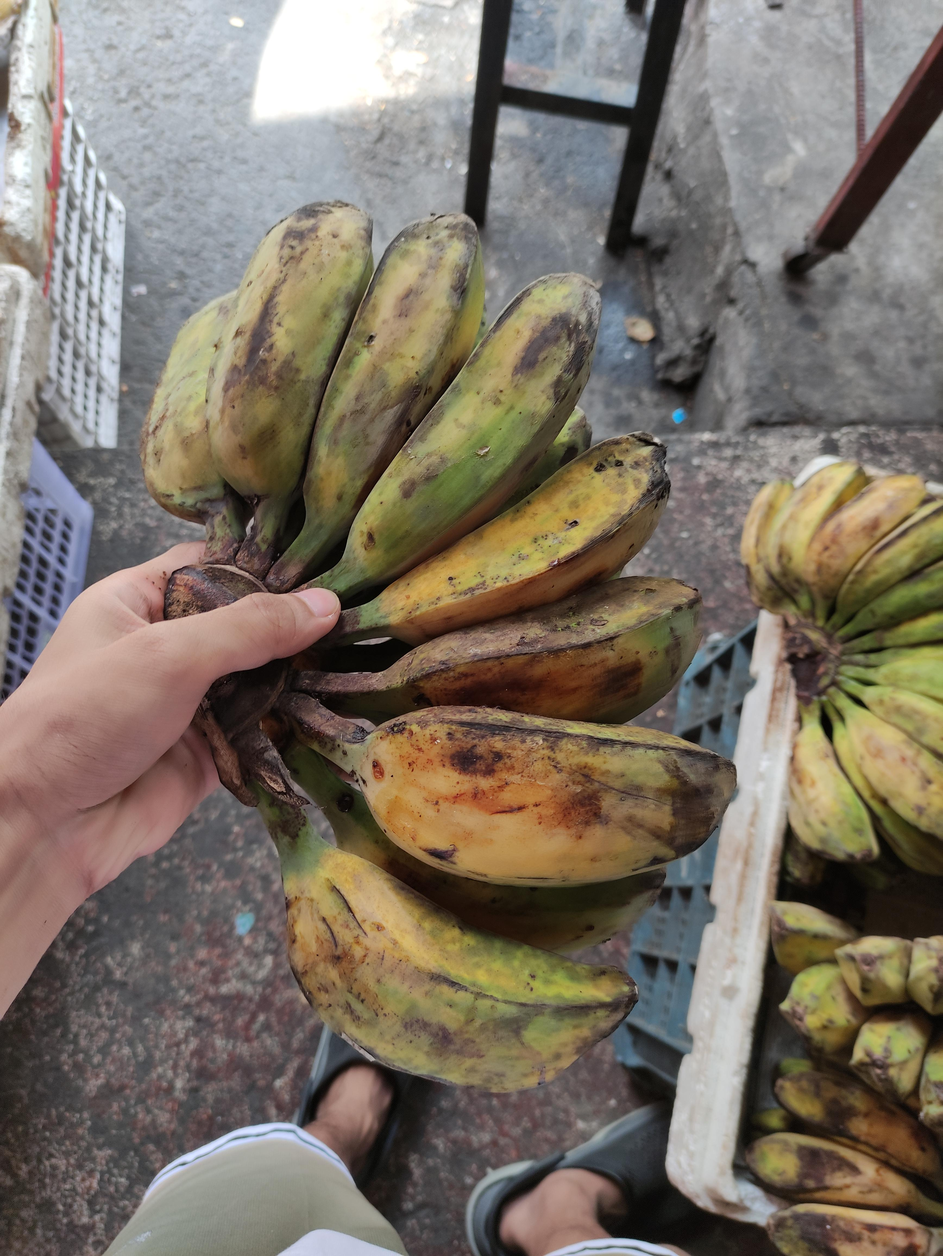ripe: (745, 1069, 943, 1256)
underripe: (140, 202, 735, 1090), (739, 458, 941, 874), (771, 901, 943, 1137)
